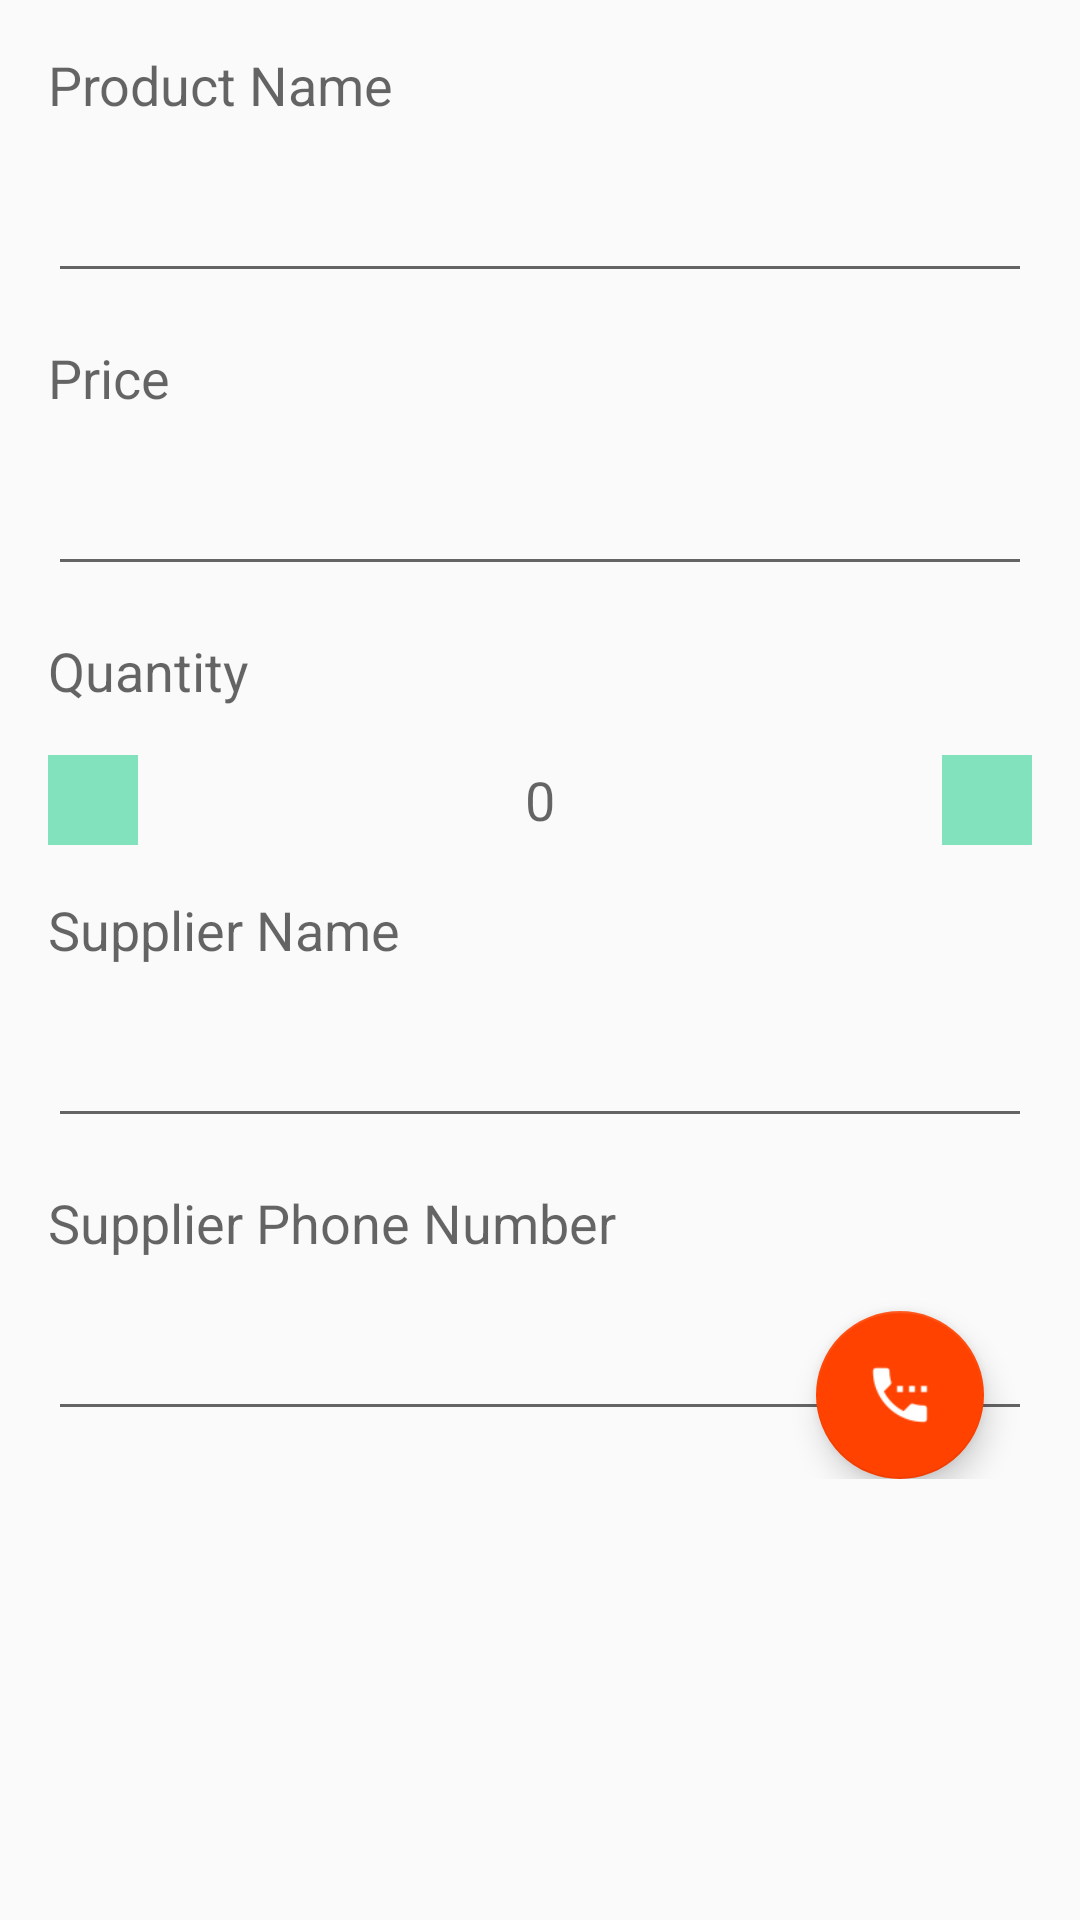

Named icons in this screenshot (1080*1920) and their centers, [x,y]:
settings phone: [900,1395]
